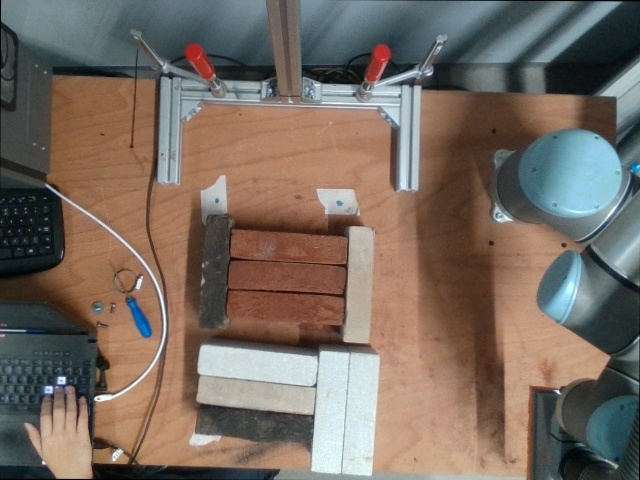brick-side: (196, 374, 316, 414), (197, 346, 319, 385), (197, 404, 313, 443), (312, 351, 348, 474), (342, 353, 378, 475), (229, 260, 344, 297), (231, 229, 346, 265), (227, 290, 342, 326), (344, 227, 375, 342), (200, 215, 231, 330)
